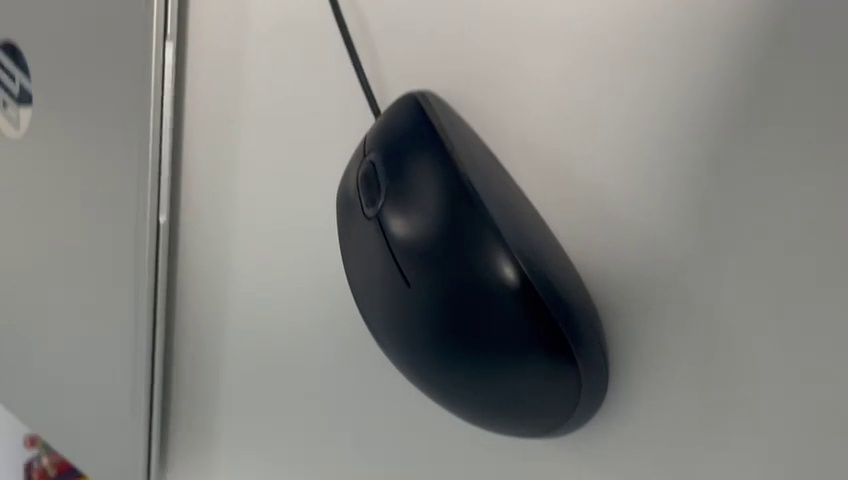objeto: (304, 76, 657, 435)
